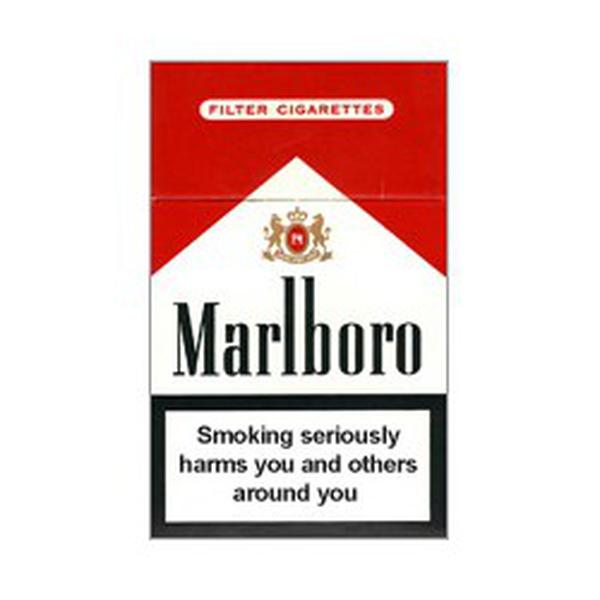marlboro_red: (153, 64, 445, 539)
